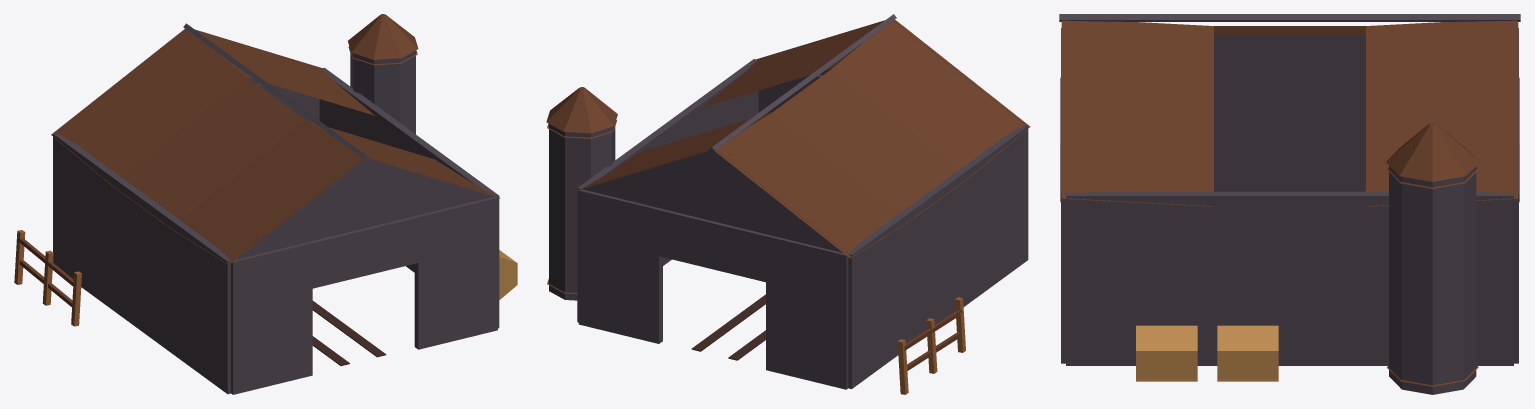
The model's file is bld.farm-barn-ruin.burned.lod2.glb.
3 renders of one model, left to right at view 1: azimuth 30°, elevation 25°; view 2: azimuth 150°, elevation 25°; view 3: azimuth 270°, elevation 25°, orthographic. The views are drawn at different scales.
Visible parts, largest first — view 1: body; view 2: body; view 3: body.
Boxes of the visible parts, x1=… form: body: x1=14, y1=14, x2=517, y2=394; body: x1=546, y1=14, x2=1030, y2=394; body: x1=1059, y1=14, x2=1520, y2=394.
Bounding box in the file's own units: 9.94 × 5.26 × 8.24.
